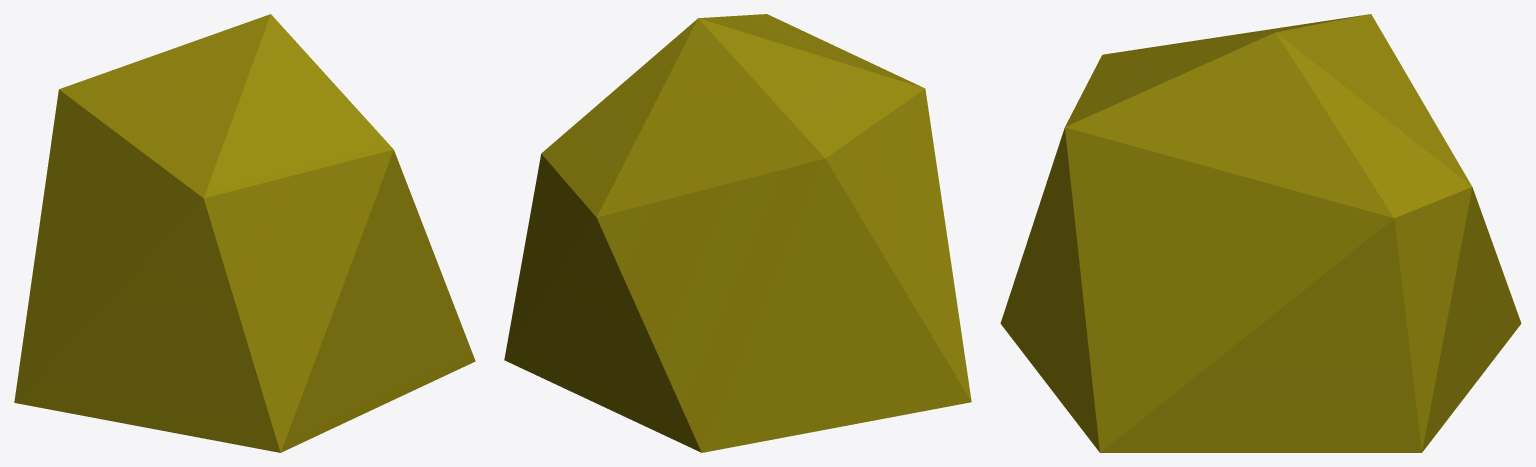
The model's file is big_bush.fbx.
3 views of the same model, side by side, from view 1: azimuth 30°, elevation 25°; view 2: azimuth 150°, elevation 25°; view 3: azimuth 270°, elevation 25° (orthographic). The views are drawn at different scales.
Visible parts, largest first — view 1: Icosphere; view 2: Icosphere; view 3: Icosphere.
Boxes of the visible parts, left/top/right/bottom form: Icosphere: left=14, top=14, right=475, bottom=452; Icosphere: left=504, top=14, right=971, bottom=452; Icosphere: left=1000, top=14, right=1521, bottom=452.
Size of the model in its own units: 324 by 254 by 340.
